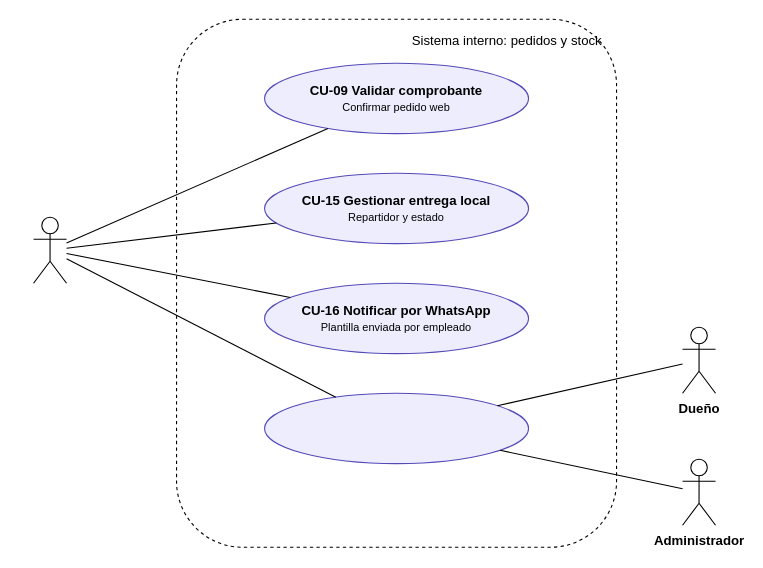
Image size: 763x568. Some labels were removed from this diagram. Each missing label, with the centre of its shape:
CU-11 Consultar stock Modelo, talla y color: the point at 396,428
Empleado: the point at 49,249
